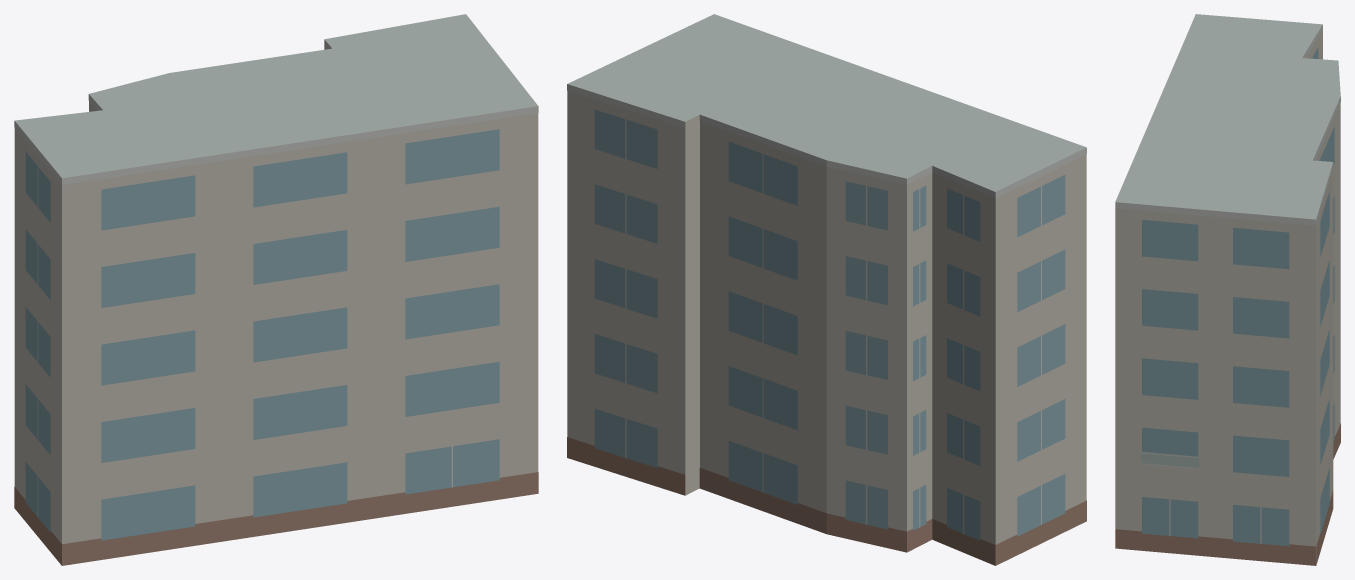
The model's file is survey-upis-32873189.glb.
3 renders of one model, left to right at view 1: azimuth 30°, elevation 25°; view 2: azimuth 150°, elevation 25°; view 3: azimuth 270°, elevation 25°, orthographic. The views are drawn at different scales.
Parts seen in each view (by area): view 1: survey-upis-32873189.tmp; view 2: survey-upis-32873189.tmp; view 3: survey-upis-32873189.tmp.
Boxes of the visible parts, left/top/right/bottom form: survey-upis-32873189.tmp: left=14, top=14, right=538, bottom=565; survey-upis-32873189.tmp: left=567, top=14, right=1086, bottom=565; survey-upis-32873189.tmp: left=1115, top=14, right=1340, bottom=565.
Size of the model in its own units: 17.7 by 13.9 by 8.22.
